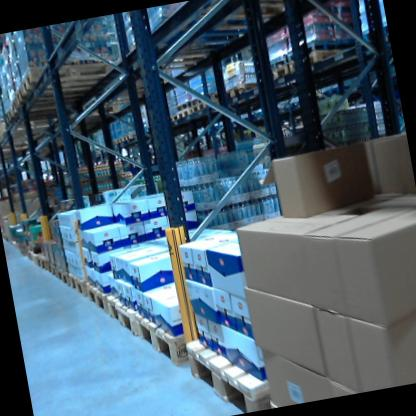pallet: (182, 320, 274, 416), (132, 298, 202, 377), (15, 48, 117, 98), (12, 69, 113, 108), (100, 285, 142, 342), (287, 43, 353, 79), (83, 273, 127, 322), (6, 87, 67, 120), (2, 96, 71, 123), (63, 269, 89, 304), (222, 81, 258, 105), (319, 79, 356, 101), (261, 62, 289, 90), (26, 243, 51, 268), (190, 97, 222, 116), (52, 261, 70, 294), (290, 93, 316, 110), (122, 129, 143, 145), (27, 237, 43, 257), (43, 256, 57, 277), (176, 107, 193, 122), (36, 254, 49, 273), (168, 112, 180, 124), (115, 137, 124, 146)
